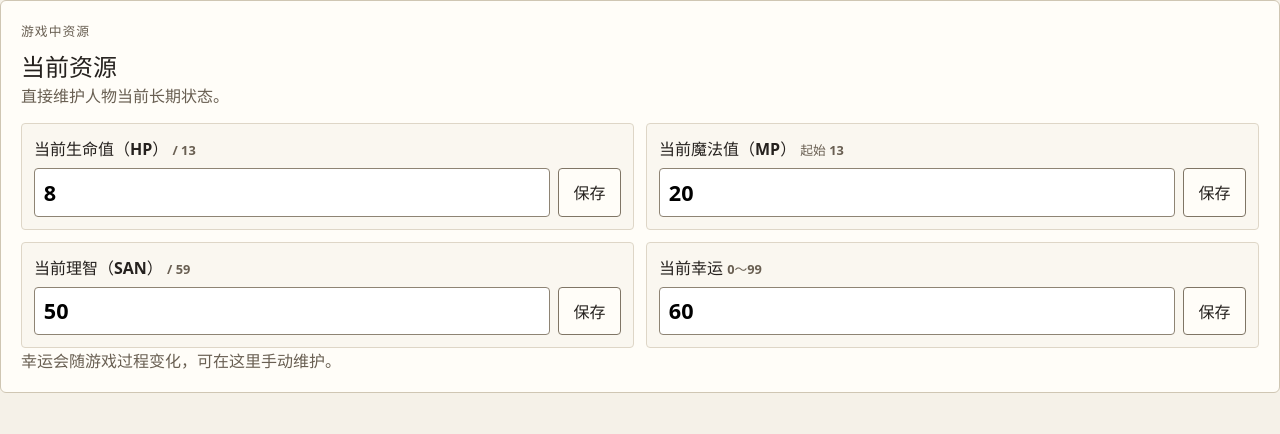
it: Final Sheet resource workspace rendered interactions › 保存 Current SAN、拒绝超过实时 Maximum SAN，并保持其他资源
The width and height of the screenshot is (1280, 434).
Replace the text in the number field labelled "当前理智（SAN） / 59" with "59": x=292, y=311 [34, 287, 550, 335]
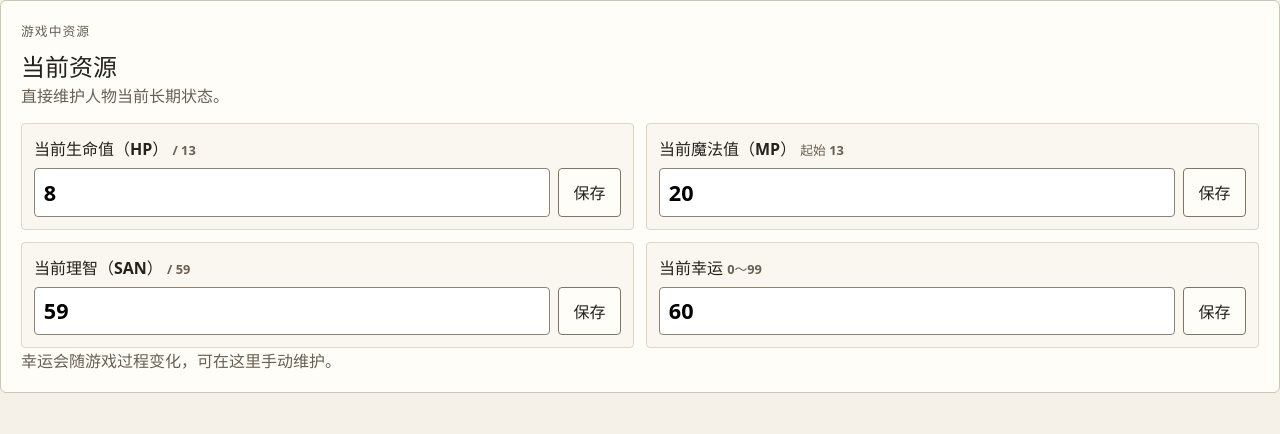
Click the 3rd button "保存": x=590, y=311 [558, 287, 621, 335]
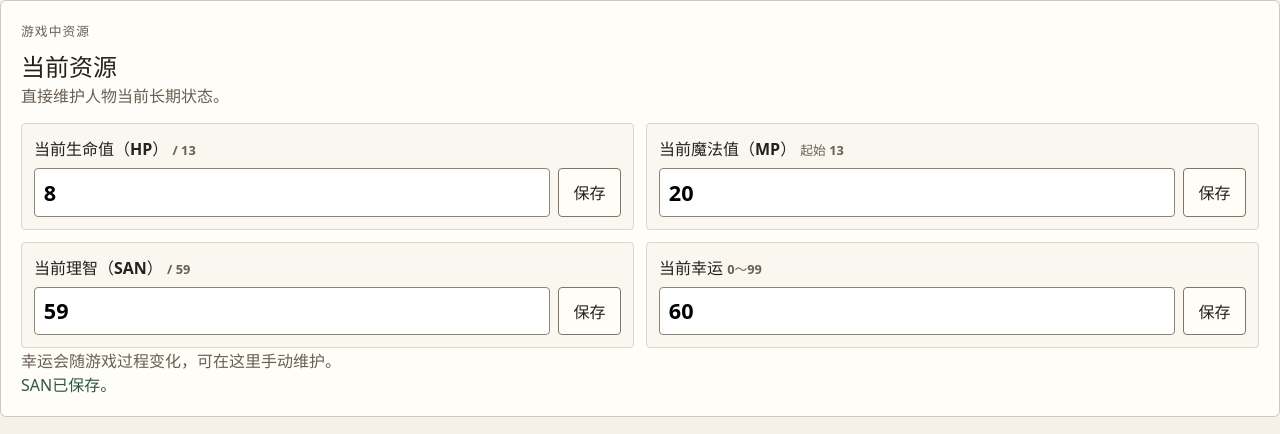
Replace the text in the number field labelled "当前理智（SAN） / 59" with "60": x=292, y=311 [34, 287, 550, 335]
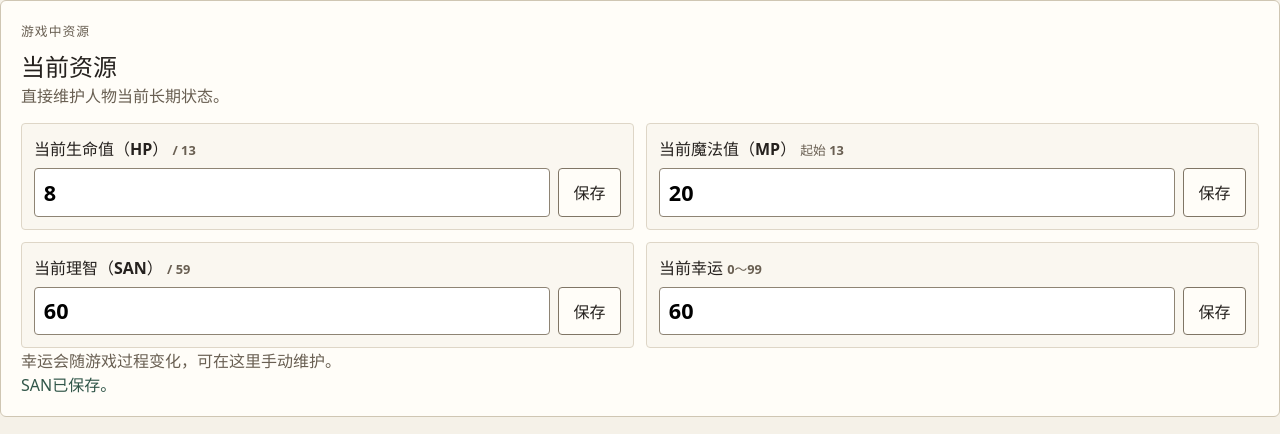
Click the 3rd button "保存": x=590, y=311 [558, 287, 621, 335]
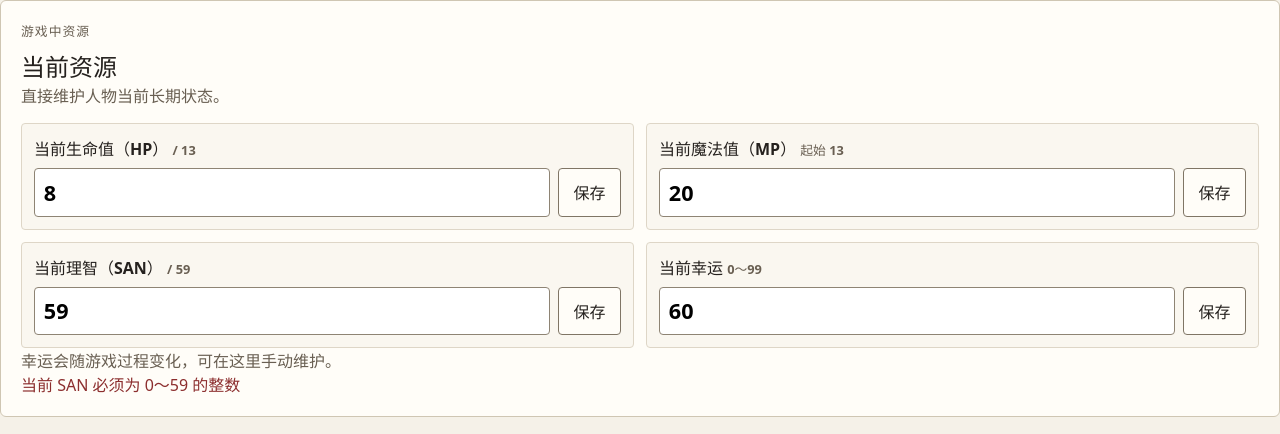
Expected: the message "当前 SAN 必须为 0～59 的整数" is shown, [21, 374, 240, 396]
